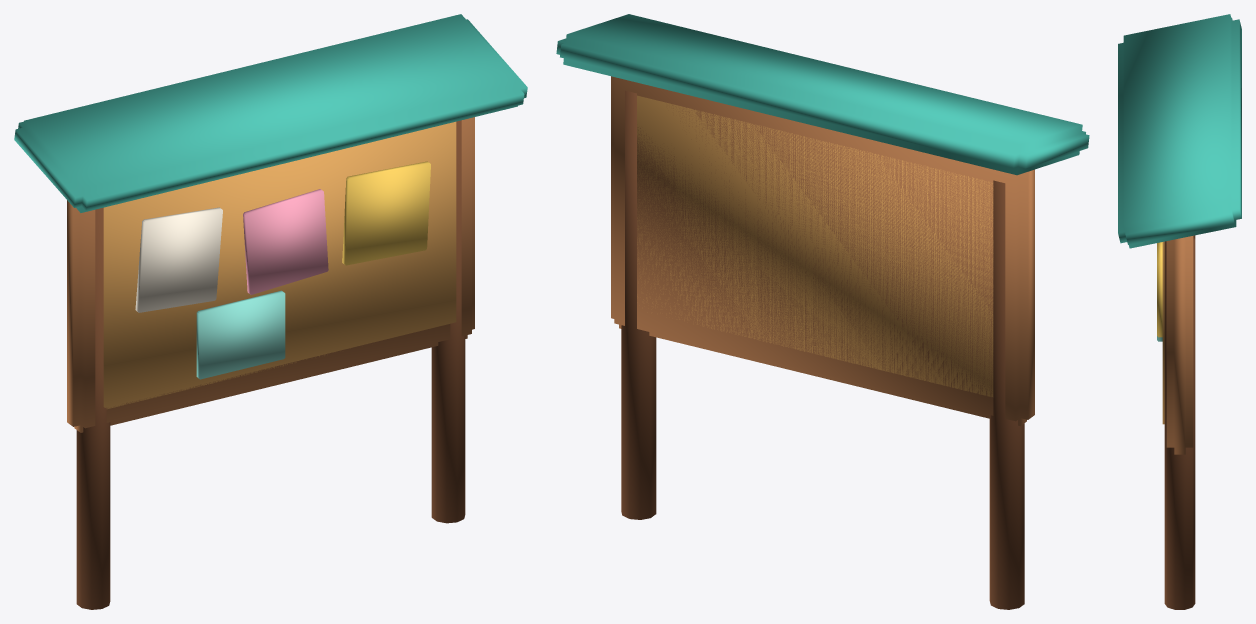
File: VillageNoticeBoard.fbx
3 views of the same model, side by side, from view 1: azimuth 30°, elevation 25°; view 2: azimuth 150°, elevation 25°; view 3: azimuth 270°, elevation 25° (orthographic). The views are drawn at different scales.
Parts seen in each view (by area): view 1: VillageNoticeBoard; view 2: VillageNoticeBoard; view 3: VillageNoticeBoard.
Boxes of the visible parts, bbox=[...] form: VillageNoticeBoard: bbox=[14, 14, 527, 609]; VillageNoticeBoard: bbox=[556, 14, 1089, 609]; VillageNoticeBoard: bbox=[1118, 14, 1241, 609].
Bounding box in the file's own units: 2.42 × 2.41 × 0.6474.
